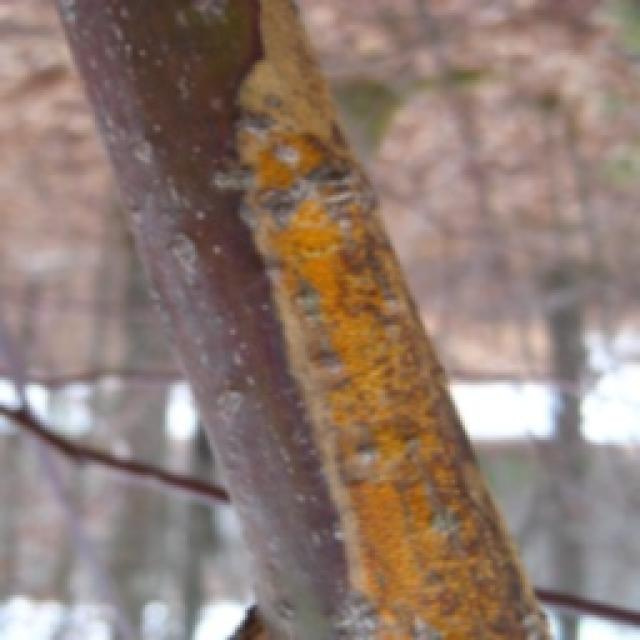Golden_canker: (129, 4, 570, 640)
